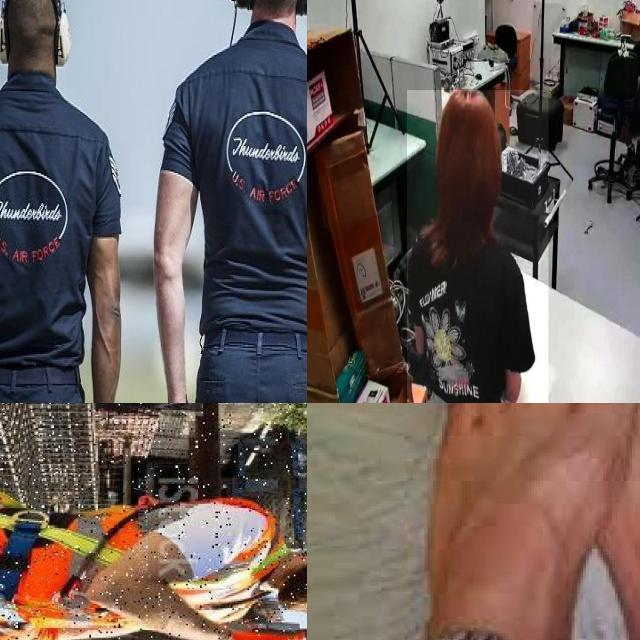Barefoots: (406, 403, 640, 640)
Ear-protection: (0, 0, 75, 91), (235, 0, 307, 46)
Harness: (0, 490, 291, 640)
head_nohelmet: (435, 83, 498, 142)
person: (407, 90, 549, 403), (624, 0, 640, 173)
